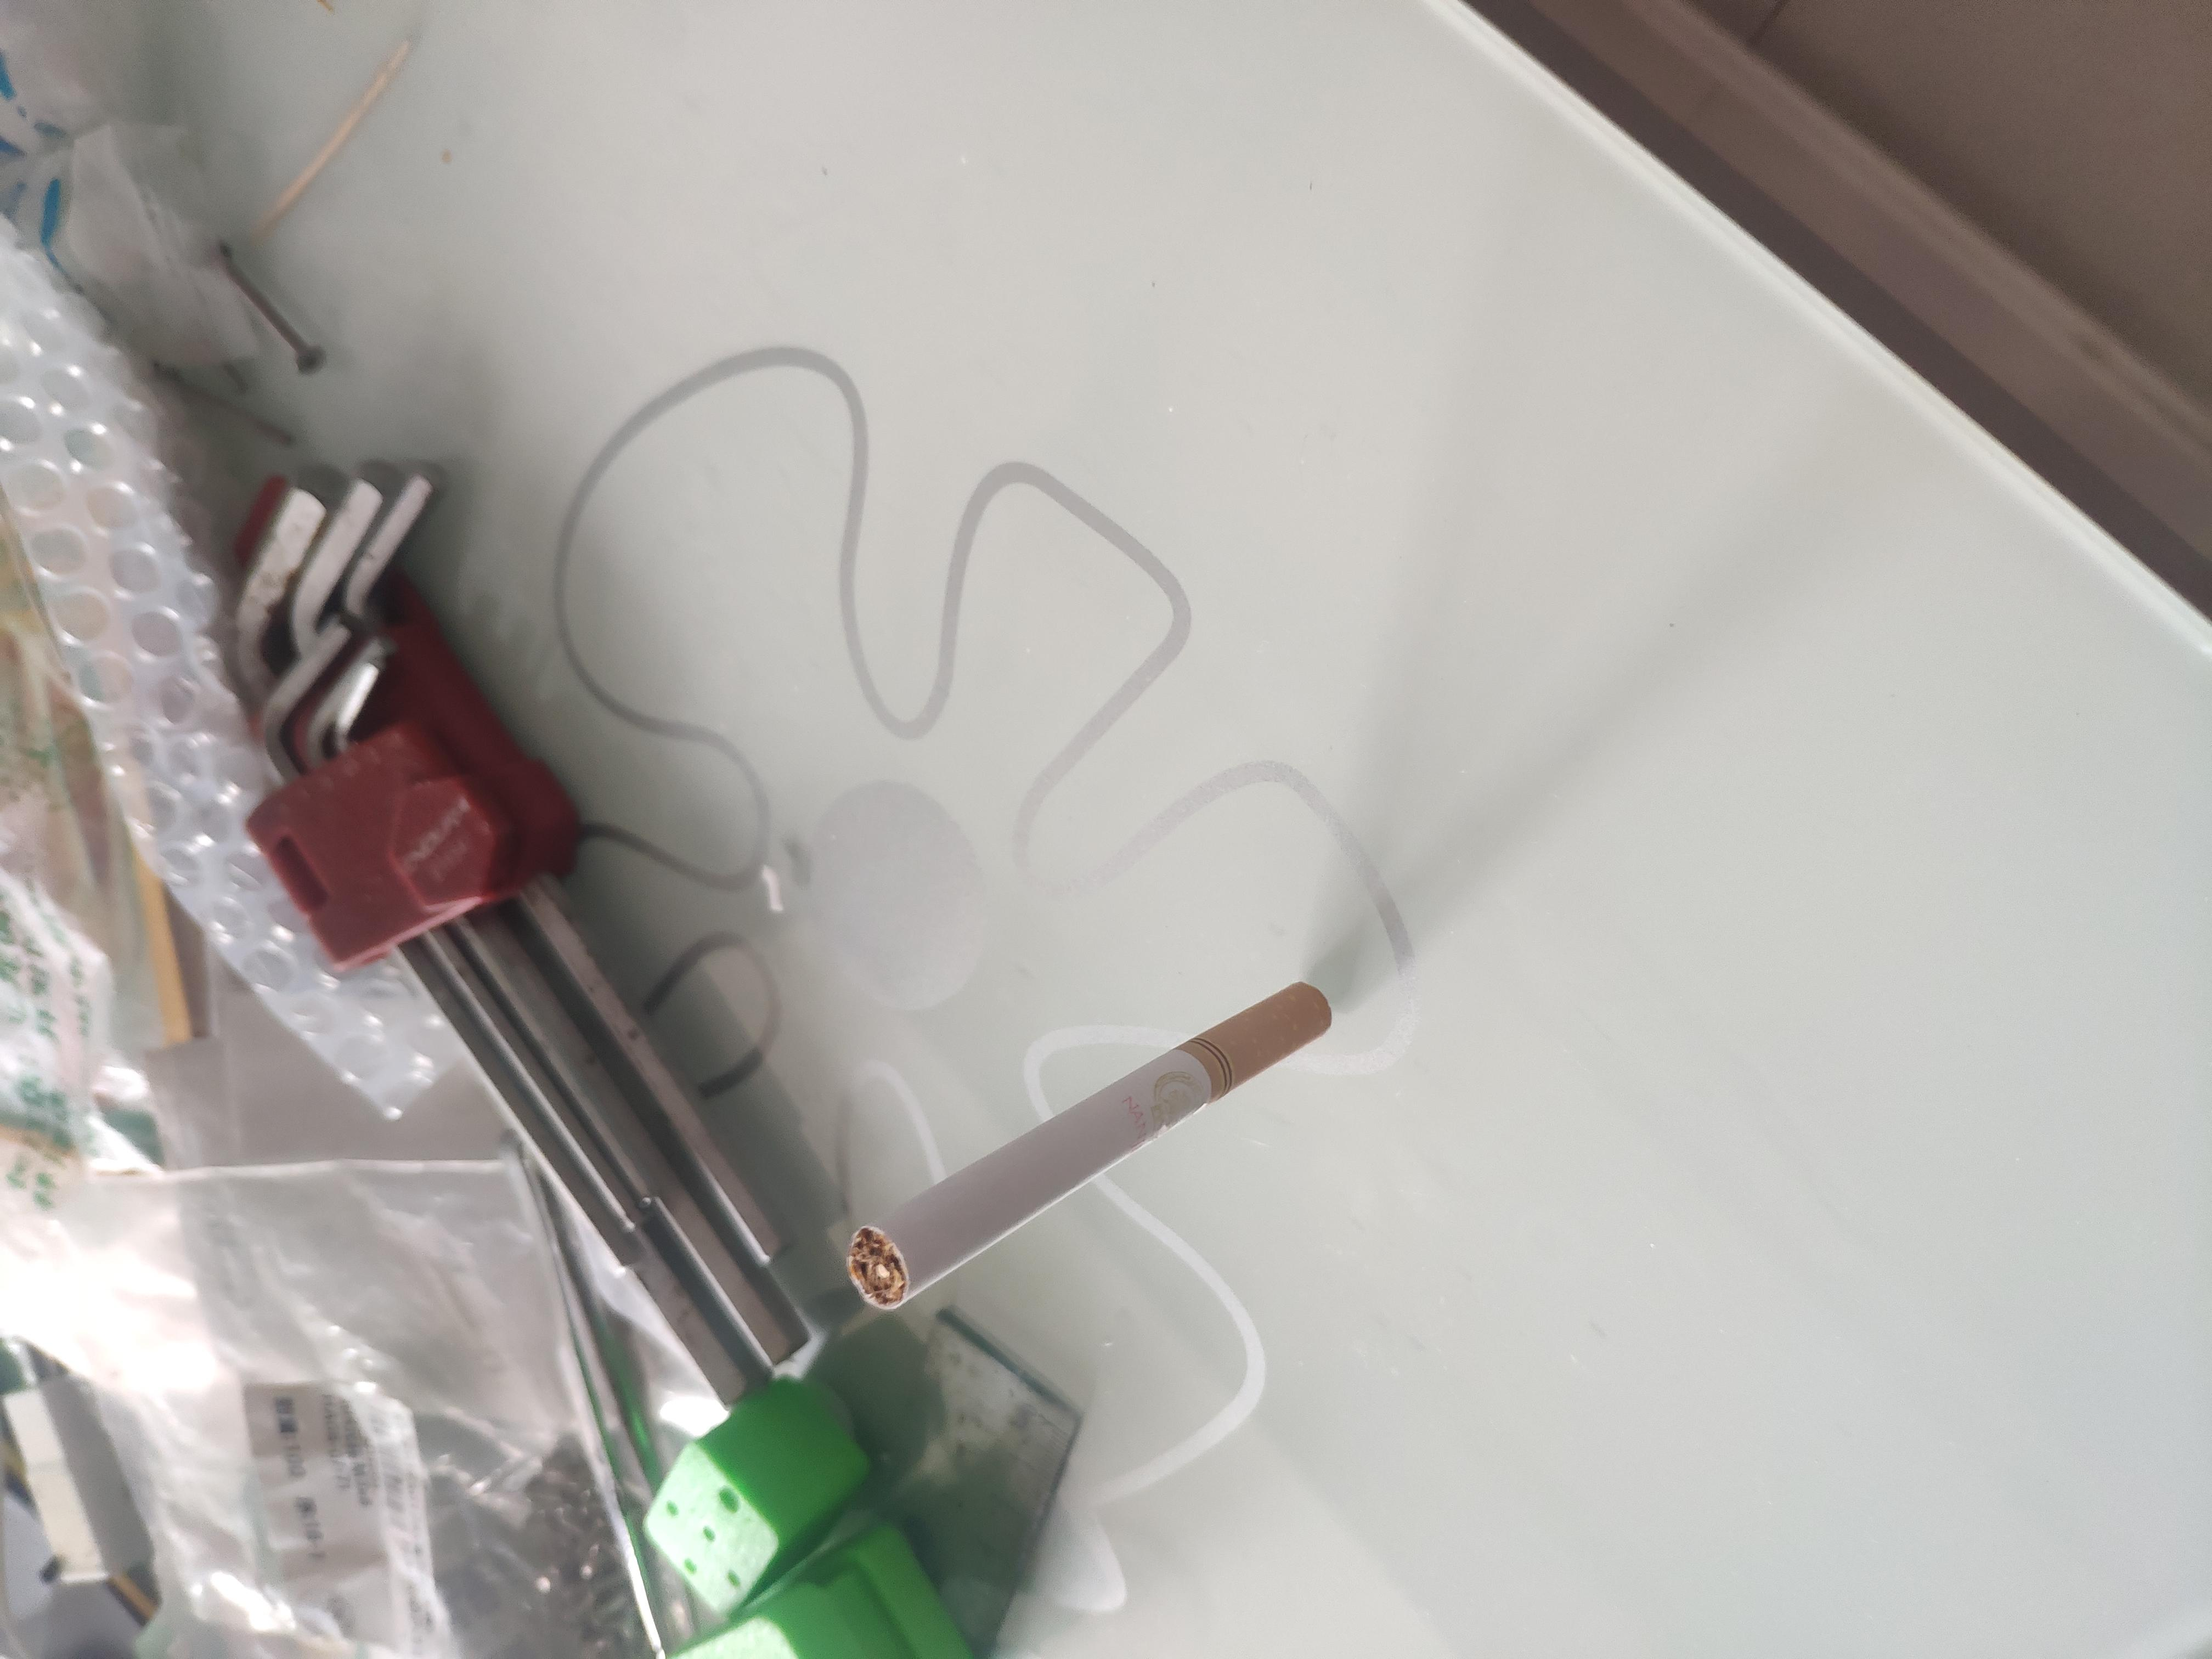smoke: (470, 634, 911, 1000)
